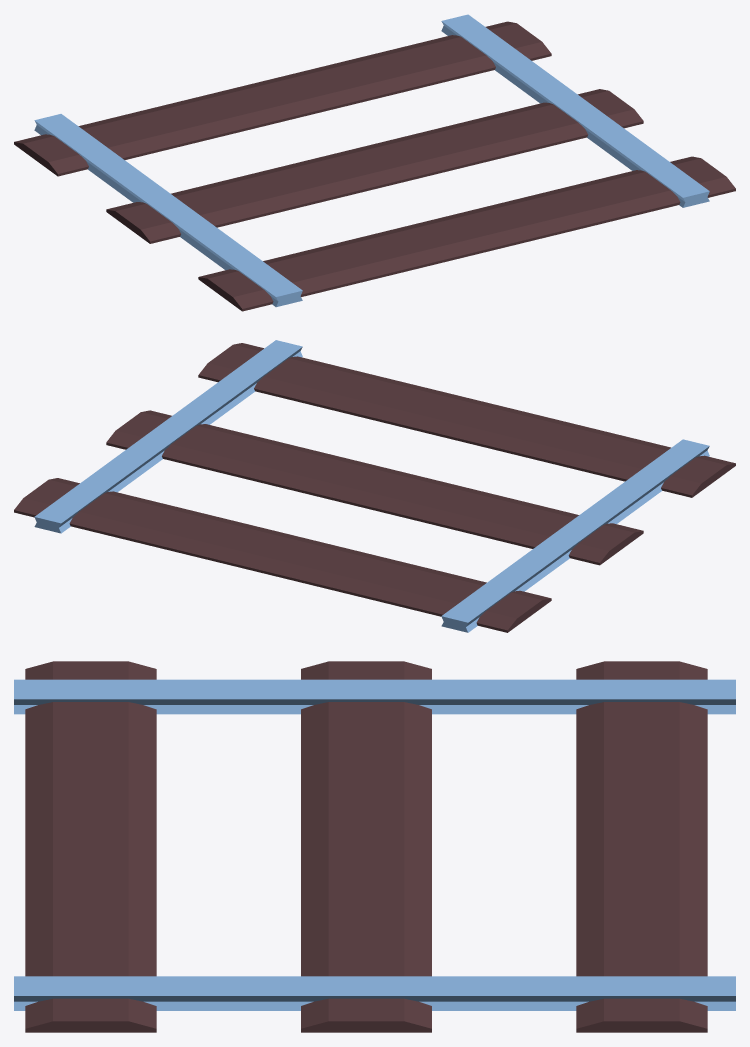
The model's file is CartTracks.fbx.
3 views of the same model, one above another, from view 1: azimuth 30°, elevation 25°; view 2: azimuth 150°, elevation 25°; view 3: azimuth 270°, elevation 25° (orthographic). The views are drawn at different scales.
Parts seen in each view (by area): view 1: CartTracks; view 2: CartTracks; view 3: CartTracks.
Boxes of the visible parts, <box> form: CartTracks: <box>14,14,735,311</box>; CartTracks: <box>14,340,735,632</box>; CartTracks: <box>14,661,735,1032</box>.
Size of the model in its own units: 1.18 by 0.0231 by 0.9986.
